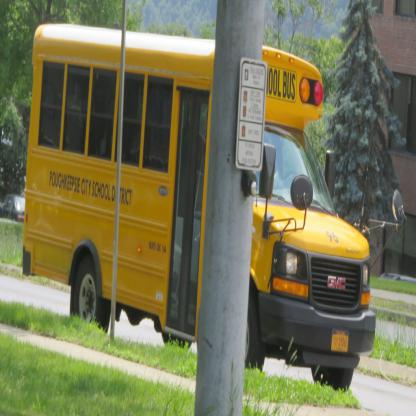Bus: (22, 21, 407, 390)
